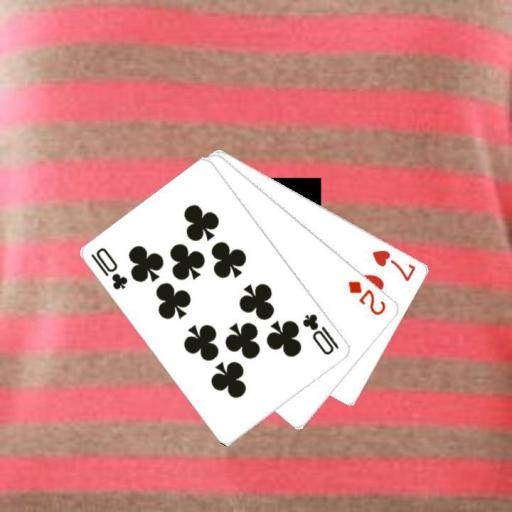10C: (300, 310, 342, 357), (88, 244, 130, 291)
2D: (345, 277, 388, 317)
7H: (369, 246, 418, 283)
